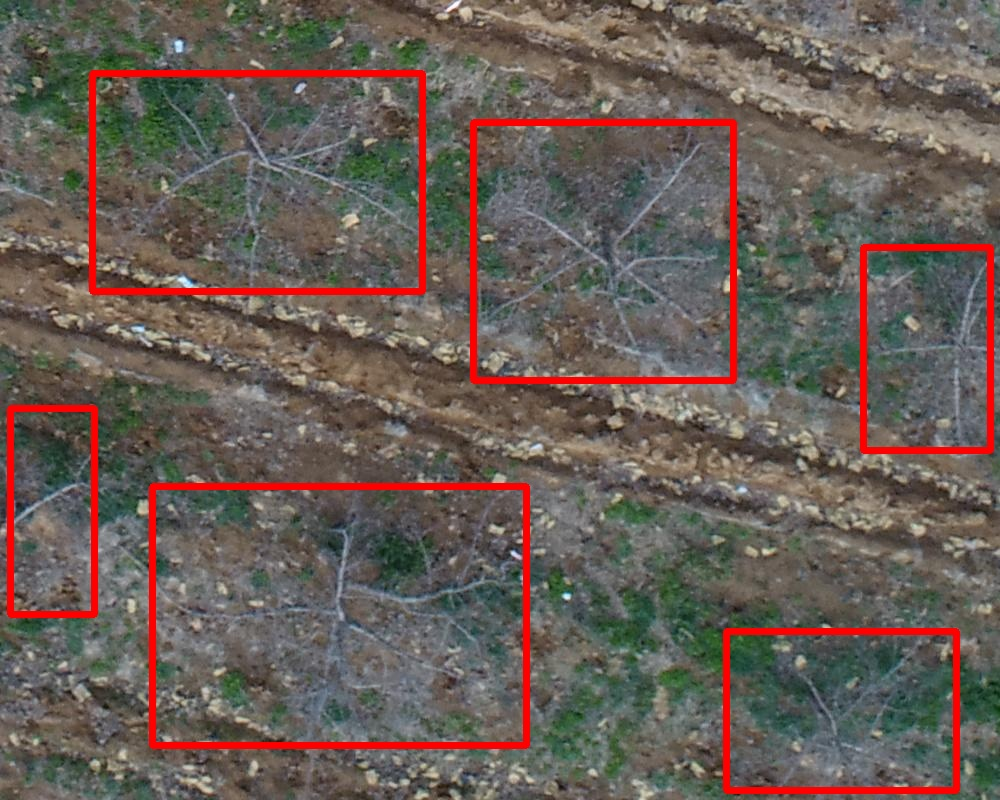apple: (152, 486, 526, 745), (92, 73, 422, 291), (473, 122, 733, 380), (726, 631, 956, 790), (863, 247, 990, 450), (10, 408, 94, 614)
